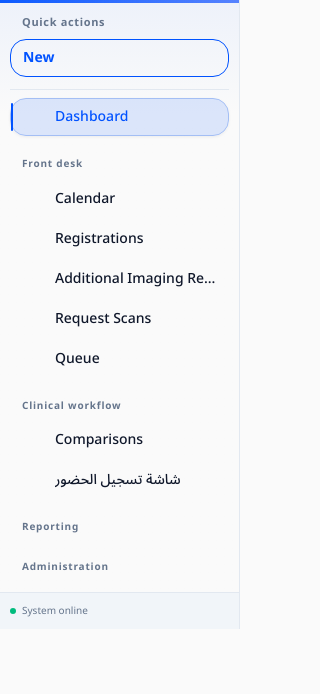
Navigation governance › keeps quick actions distinct and permission-filtered
Click the button "New" at x=120, y=58, box x1=10 y1=39 x2=229 y2=77
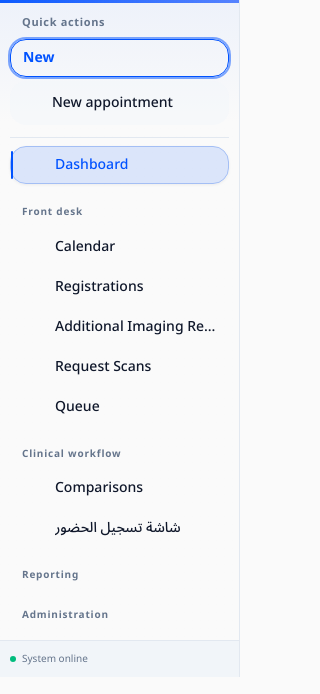
Result: the menu item "New appointment" is shown at x1=14 y1=85 x2=225 y2=121
